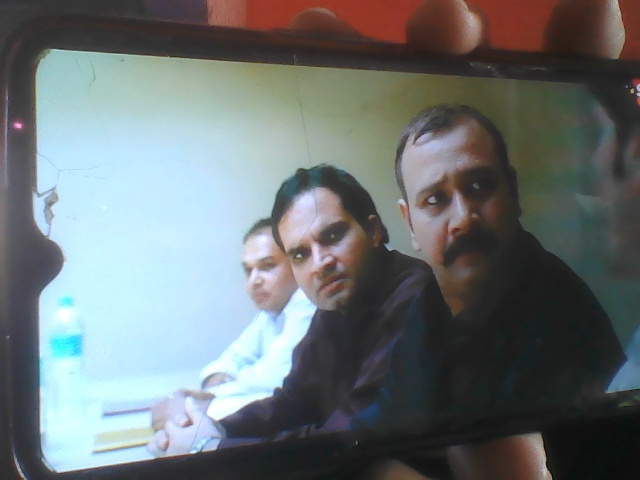fake: (395, 95, 535, 293), (266, 163, 386, 333)
